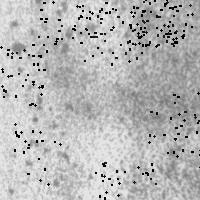pitted_surface: (1, 3, 198, 198), (84, 8, 143, 63), (148, 111, 199, 166), (0, 44, 46, 104), (14, 123, 59, 183), (134, 0, 191, 45), (130, 0, 187, 45), (54, 0, 112, 40), (95, 162, 155, 200), (34, 0, 86, 43), (173, 92, 200, 150)
